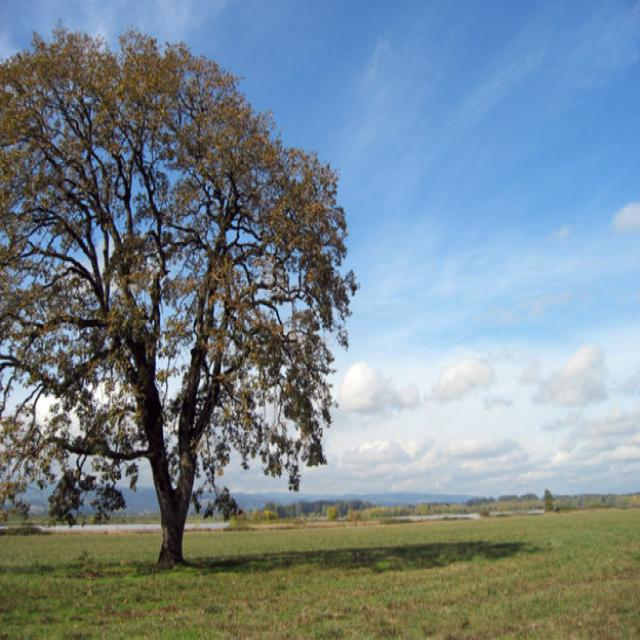Quercus garryana: (0, 23, 365, 555)
